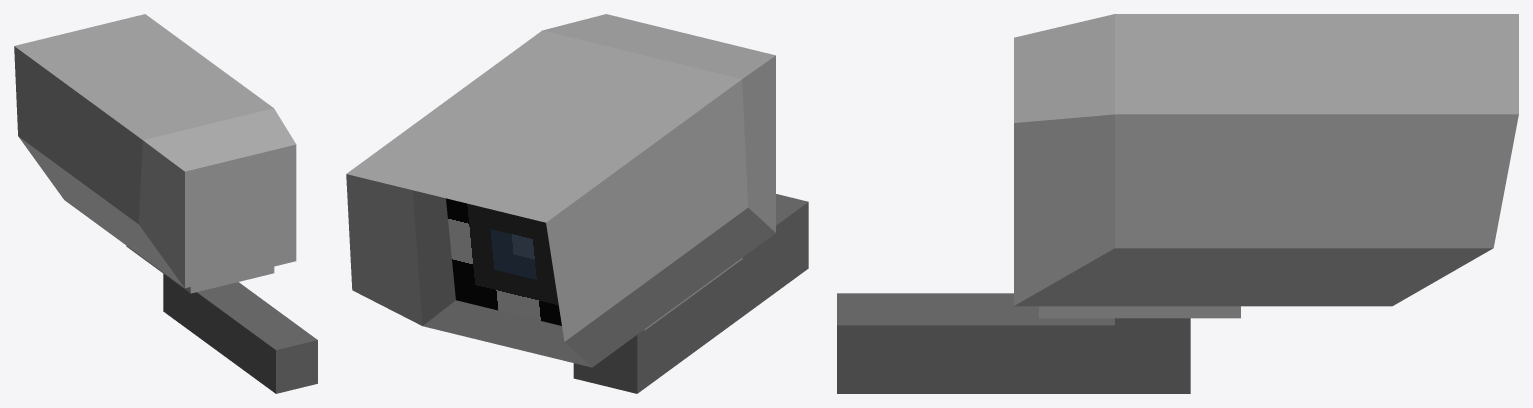
3 views of the same model, side by side, from view 1: azimuth 30°, elevation 25°; view 2: azimuth 150°, elevation 25°; view 3: azimuth 270°, elevation 25° (orthographic). The views are drawn at different scales.
Parts seen in each view (by area): view 1: cuboid; view 2: cuboid; view 3: cuboid.
Boxes of the visible parts, x1,y1,x2,y2 form: cuboid: (14,14,317,393); cuboid: (346,14,808,393); cuboid: (837,14,1518,393).
Bounding box in the file's own units: 62.5 × 85.67 × 169.
Materials: 1 (1 with a texture image).
